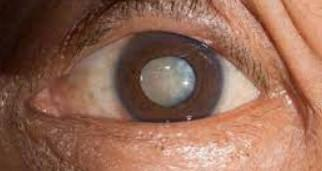eye: (115, 31, 221, 123)
